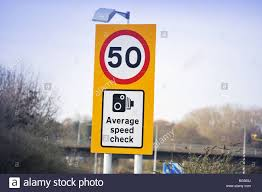Speed_limit_50km: (100, 30, 151, 85)
